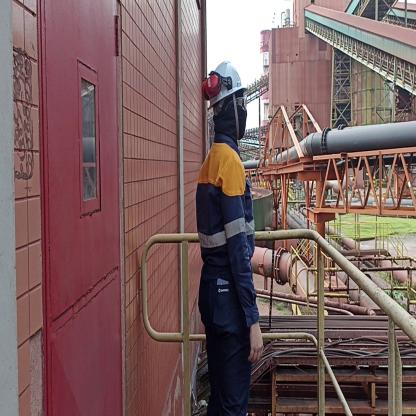Balaclava: (216, 92, 247, 140)
Capacete: (206, 56, 249, 95)
Operacional: (196, 141, 256, 285)
